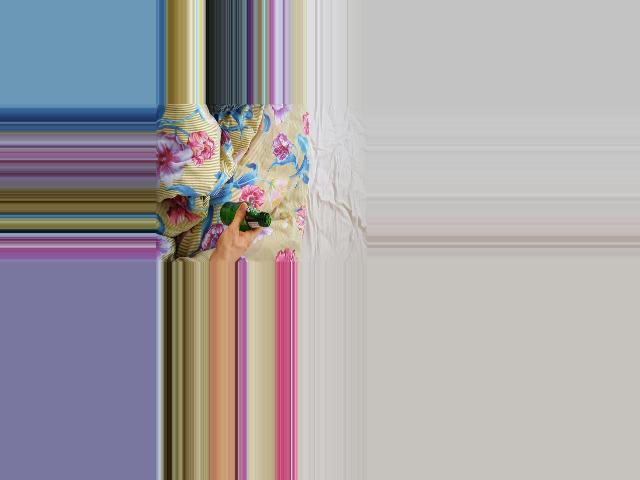beer: (219, 202, 269, 232)
